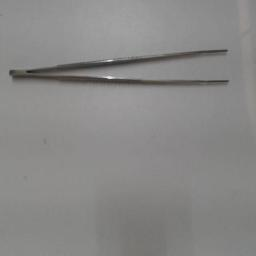DeBakey Dissector: (6, 42, 236, 94)
